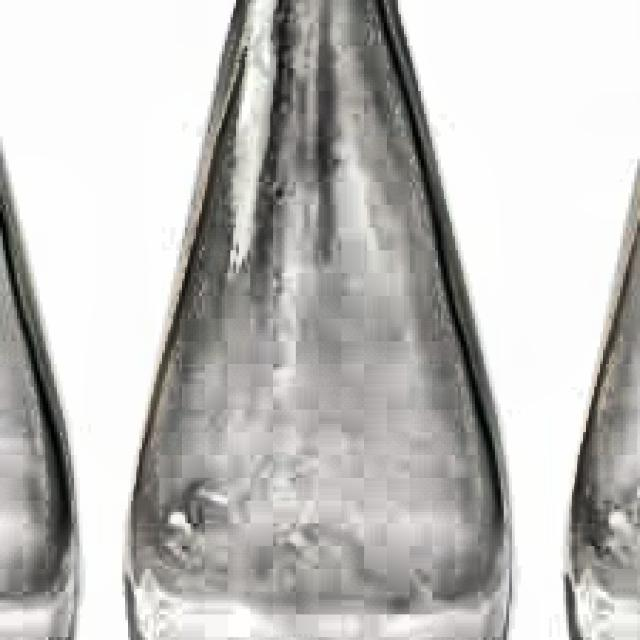glass: (115, 0, 520, 640)
